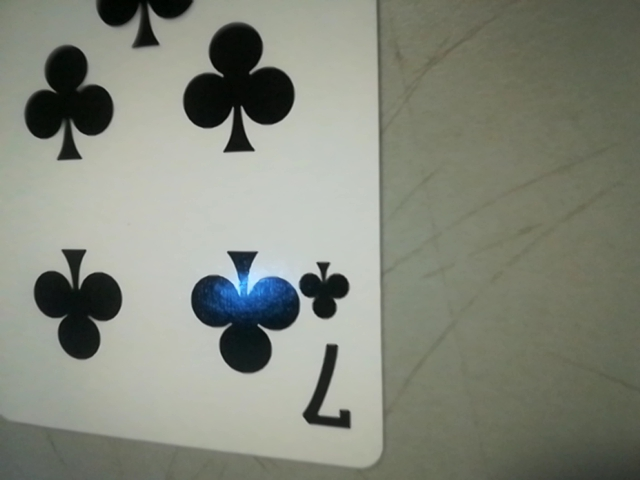mh 7: (291, 248, 374, 447)
